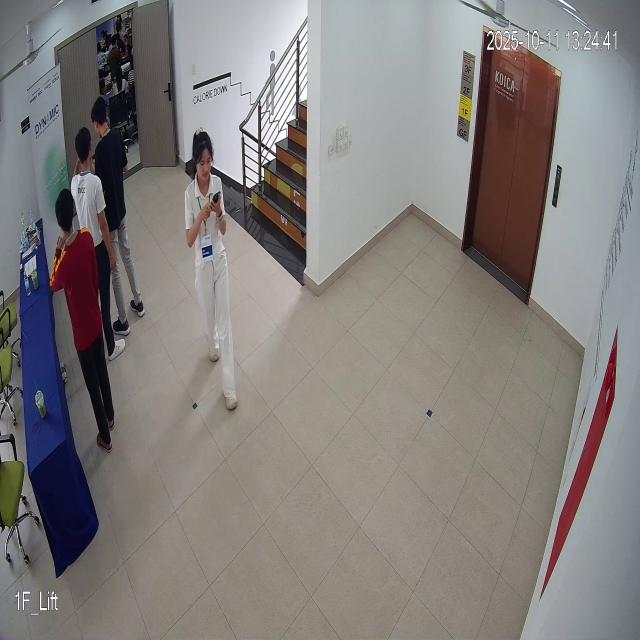face: (187, 123, 217, 190)
